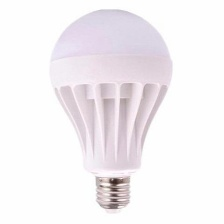light_bulb: (46, 5, 175, 220)
